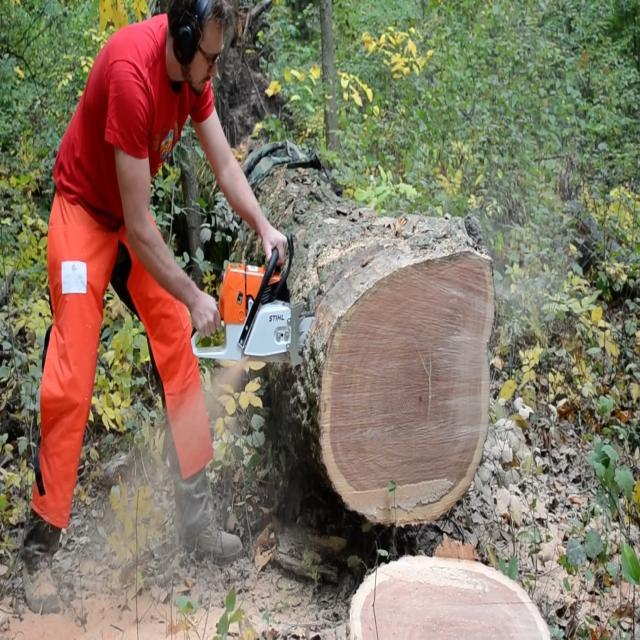Chainsaw: (185, 236, 335, 374)
